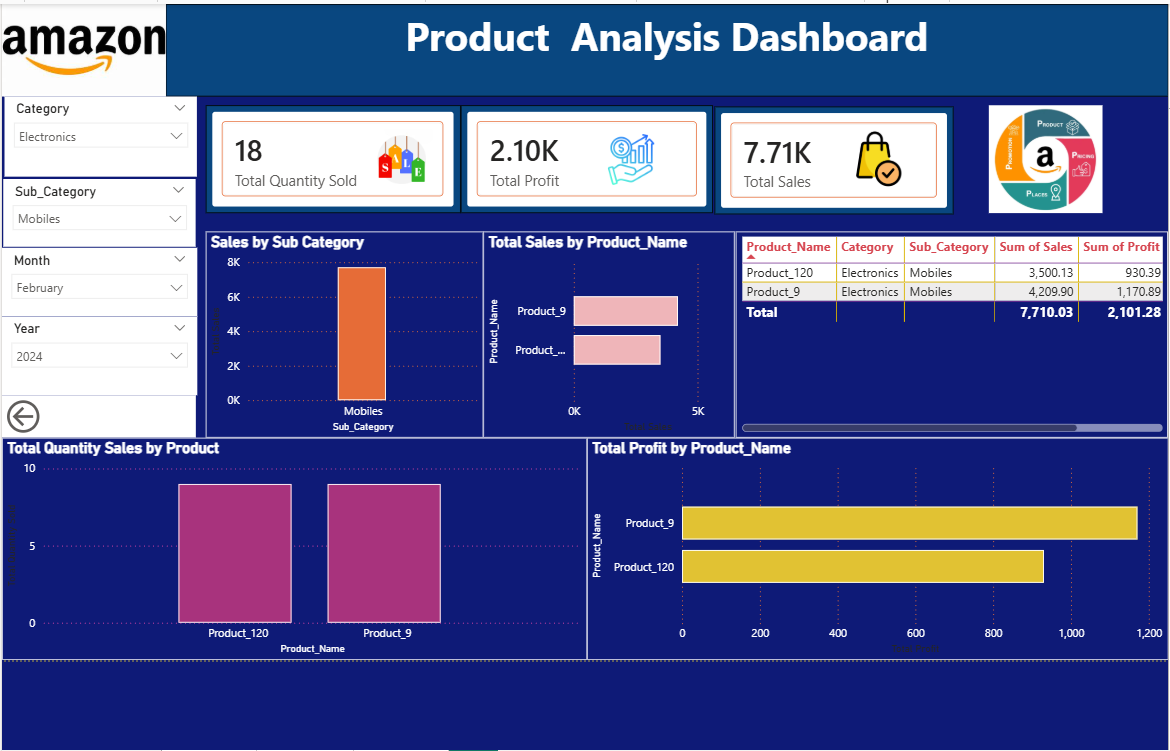

The dashboard page shown, as its layout file describes it:
{"tool":"powerbi","page":{"name":"Page 2","canvas":[1280,720],"ordinal":1},"visuals":[{"type":"textbox","box":[182.5,0,1097.8,101.5],"z":0},{"type":"cardVisual","fields":{"Data":["Amazon_Sales_Data.Total Profit"]},"box":[503.6,111.1,230.5,118],"z":1000},{"type":"cardVisual","fields":{"Data":["Amazon_Sales_Data.Total Sales"]},"box":[760.2,111.1,220.9,118],"z":2000},{"type":"slicer","fields":{"Values":["Amazon_Sales_Data.Category"]},"box":[2.7,101.5,211.3,87.8],"z":3000},{"type":"slicer","fields":{"Values":["Amazon_Sales_Data.Sub_Category"]},"box":[1.4,192.1,211.3,74.1],"z":4000},{"type":"slicer","fields":{"Values":["Date Table.Date.Variation.Date Hierarchy.Month"]},"box":[0,267.6,214.1,75.5],"z":5000},{"type":"slicer","fields":{"Values":["Date Table.Date.Variation.Date Hierarchy.Year"]},"box":[0,343.1,214.1,86.4],"z":6000},{"type":"cardVisual","fields":{"Data":["Amazon_Sales_Data.Total Products"]},"box":[223.7,111.1,260.7,118],"z":7000},{"type":"clusteredBarChart","fields":{"Y":["Amazon_Sales_Data.Total Sales"],"Category":["Amazon_Sales_Data.Product_Name"]},"box":[528.3,249.7,275.8,226.4],"z":8000},{"type":"clusteredColumnChart","title":"Sales by Sub Category","fields":{"Category":["Amazon_Sales_Data.Sub_Category"],"Y":["Amazon_Sales_Data.Total Sales"]},"box":[223.7,249.7,304.6,226.4],"z":9000},{"type":"clusteredBarChart","fields":{"Category":["Amazon_Sales_Data.Product_Name"],"Y":["Amazon_Sales_Data.Total Profit"]},"box":[639.5,476.2,640.8,244.3],"z":10000},{"type":"clusteredColumnChart","fields":{"Category":["Amazon_Sales_Data.Product_Name"],"Y":["Amazon_Sales_Data.Total Quantity Sold"]},"box":[0,476.2,639.5,244.3],"z":11000},{"type":"tableEx","fields":{"Values":["Amazon_Sales_Data.Product_Name","Amazon_Sales_Data.Category","Amazon_Sales_Data.Sub_Category","Sum(Amazon_Sales_Data.Sales)","Sum(Amazon_Sales_Data.Profit)","Sum(Amazon_Sales_Data.Quantity)"]},"box":[805.5,249.7,474.8,226.4],"z":12000},{"type":"image","box":[0,0,182.5,101.5],"z":13000},{"type":"image","box":[999,111.1,269,118],"z":13001},{"type":"actionButton","box":[0,429.5,216.8,64.5],"z":13002},{"type":"image","box":[397.9,137.2,57.6,67.2],"z":13003},{"type":"image","box":[639.5,142.7,67.2,56.3],"z":13004},{"type":"image","box":[883.7,137.2,76.8,65.9],"z":13005}]}

Visuals, with their boxes on the page's 1280x720 design canvas (x1, y1, x2, y2). These are canvas units, not pixel positions in the 1170x751 screenshot, which may show the page scaled, cropped or inside an application window:
textbox: [x1=182, y1=0, x2=1280, y2=102]
cardVisual - Amazon_Sales_Data.Total Profit: [x1=504, y1=111, x2=734, y2=229]
cardVisual - Amazon_Sales_Data.Total Sales: [x1=760, y1=111, x2=981, y2=229]
slicer - Amazon_Sales_Data.Category: [x1=3, y1=102, x2=214, y2=189]
slicer - Amazon_Sales_Data.Sub_Category: [x1=1, y1=192, x2=213, y2=266]
slicer - Date Table.Date.Variation.Date Hierarchy.Month: [x1=0, y1=268, x2=214, y2=343]
slicer - Date Table.Date.Variation.Date Hierarchy.Year: [x1=0, y1=343, x2=214, y2=430]
cardVisual - Amazon_Sales_Data.Total Products: [x1=224, y1=111, x2=484, y2=229]
clusteredBarChart - Amazon_Sales_Data.Total Sales x Amazon_Sales_Data.Product_Name: [x1=528, y1=250, x2=804, y2=476]
"Sales by Sub Category" clusteredColumnChart: [x1=224, y1=250, x2=528, y2=476]
clusteredBarChart - Amazon_Sales_Data.Product_Name x Amazon_Sales_Data.Total Profit: [x1=640, y1=476, x2=1280, y2=720]
clusteredColumnChart - Amazon_Sales_Data.Product_Name x Amazon_Sales_Data.Total Quantity Sold: [x1=0, y1=476, x2=640, y2=720]
tableEx - Amazon_Sales_Data.Product_Name x Amazon_Sales_Data.Category: [x1=806, y1=250, x2=1280, y2=476]
image: [x1=0, y1=0, x2=182, y2=102]
image: [x1=999, y1=111, x2=1268, y2=229]
actionButton: [x1=0, y1=430, x2=217, y2=494]
image: [x1=398, y1=137, x2=456, y2=204]
image: [x1=640, y1=143, x2=707, y2=199]
image: [x1=884, y1=137, x2=960, y2=203]
